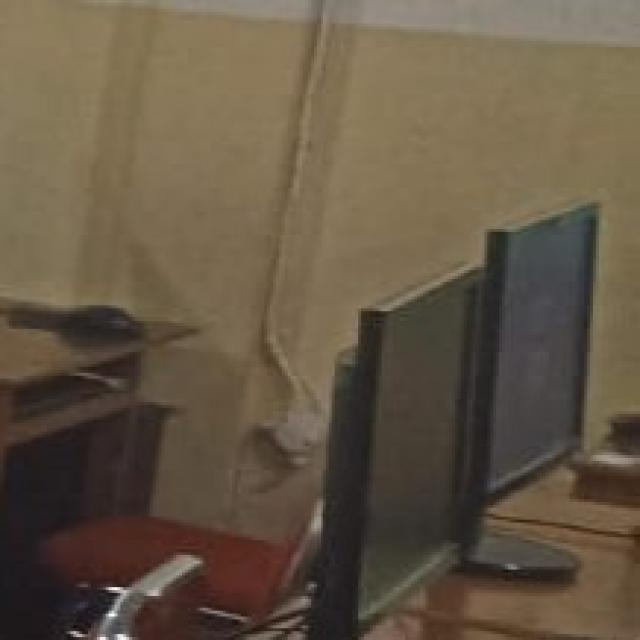offscreen: (318, 268, 483, 639), (486, 206, 593, 492)
